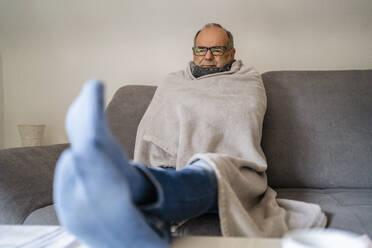blanket: (133, 59, 328, 238)
trousers: (132, 159, 219, 234)
